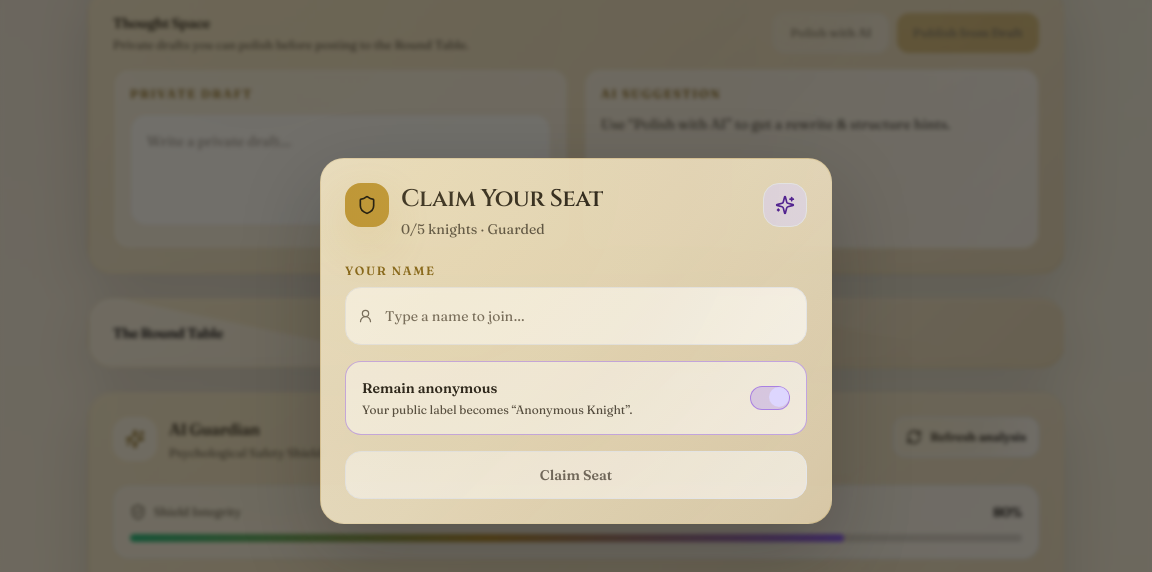
Scenario: structured room can restart and clears all discussion posts
The image size is (1152, 572).
(page scrolled)
Expected: the heading "Claim Your Seat" is shown, top-left (401, 183), bottom-right (603, 215)
Type "Alice" into the field labelled "YOUR NAME" at (590, 316), box top-left (385, 296), bottom-right (794, 336)
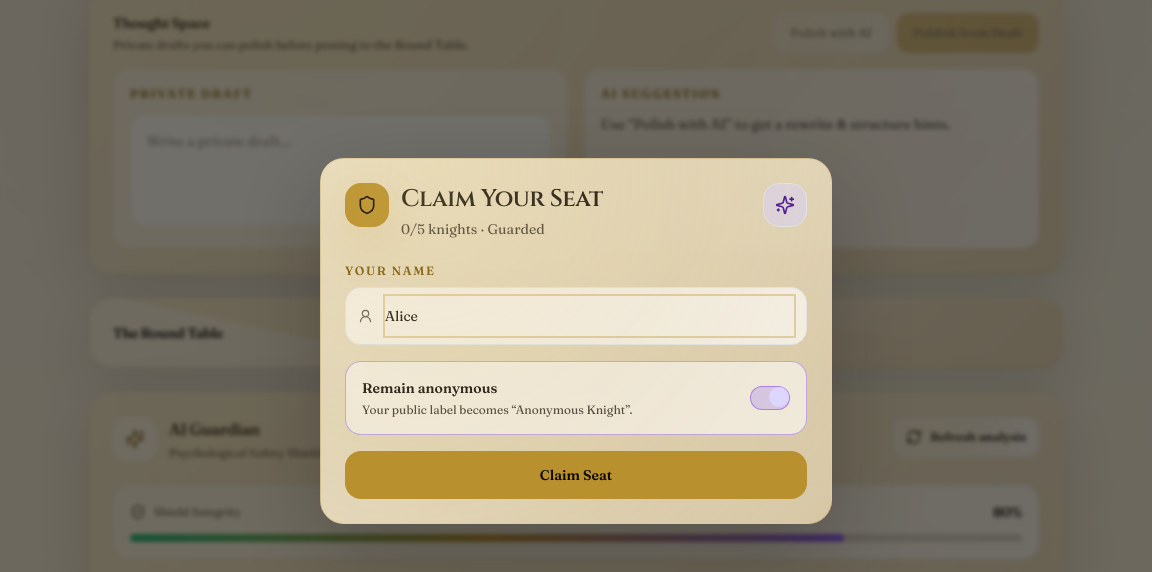
Click the button "Claim Seat" at (576, 475), box top-left (345, 451), bottom-right (807, 499)
(page scrolled)
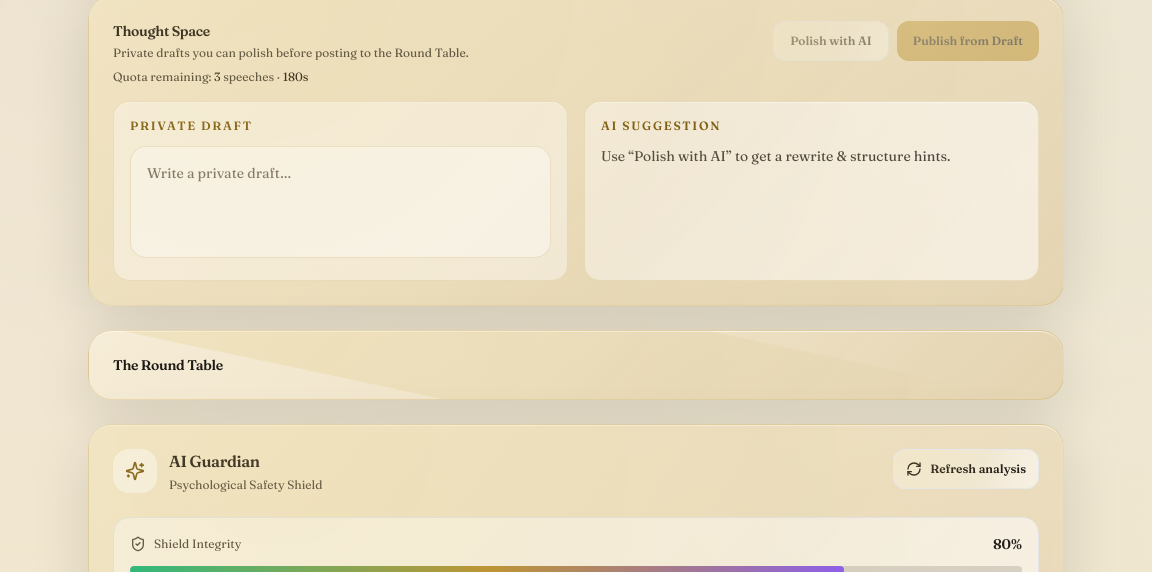
Type "hello" into the text box labelled "Write a private draft…" at (340, 202), box top-left (130, 146), bottom-right (551, 258)
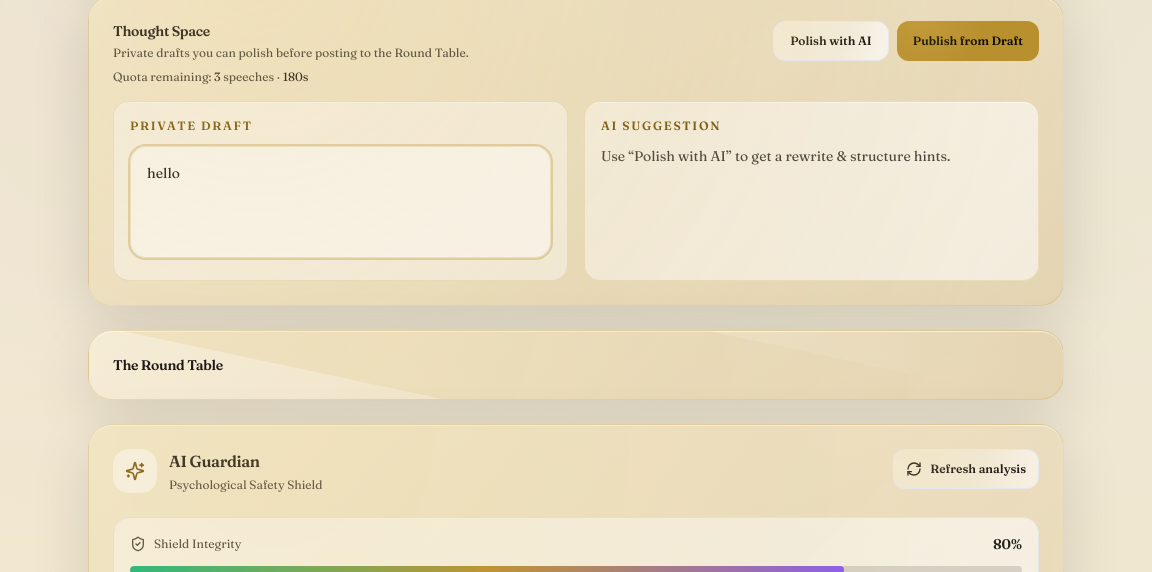
Click the button "Publish from Draft" at (968, 41), box top-left (897, 21), bottom-right (1039, 61)
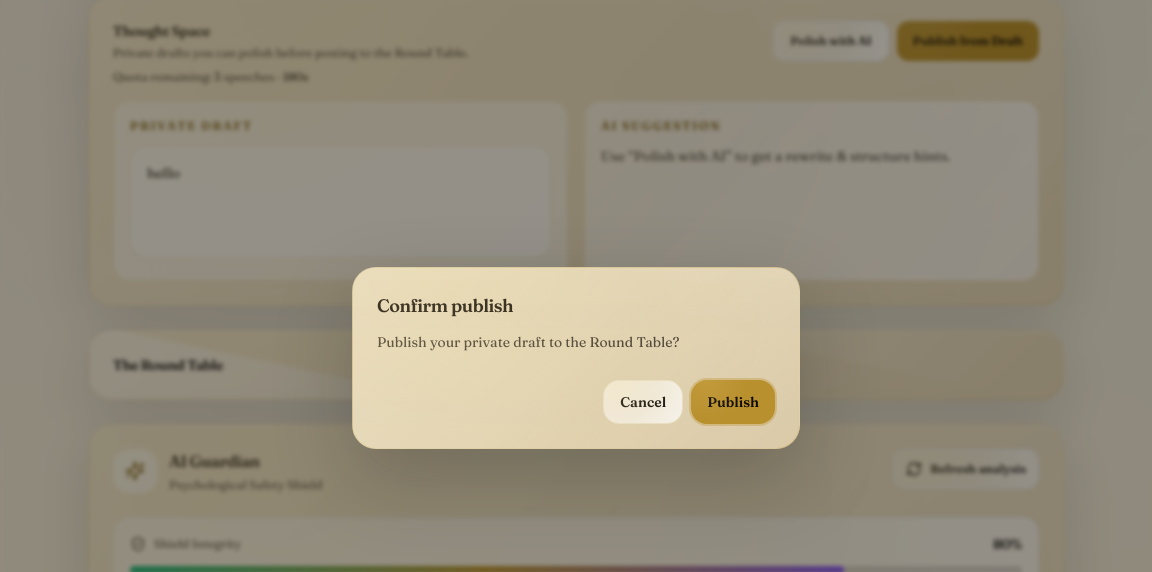
Click the button "Publish" at (733, 402), box top-left (691, 380), bottom-right (775, 424)
(page scrolled)
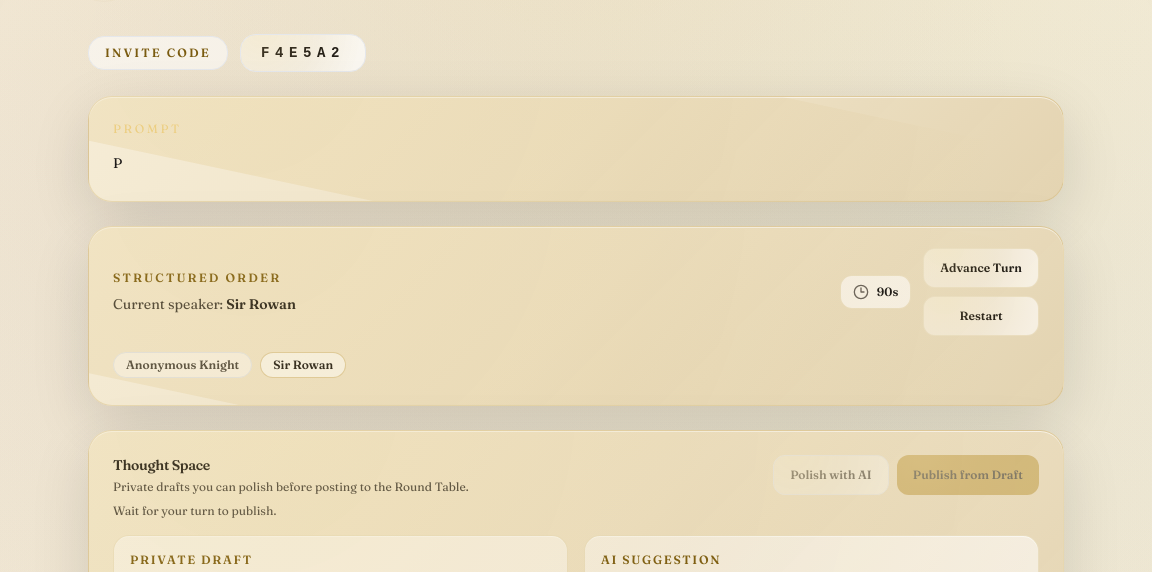
Click the button "Restart" at (981, 316), box top-left (923, 296), bottom-right (1039, 336)
(page scrolled)
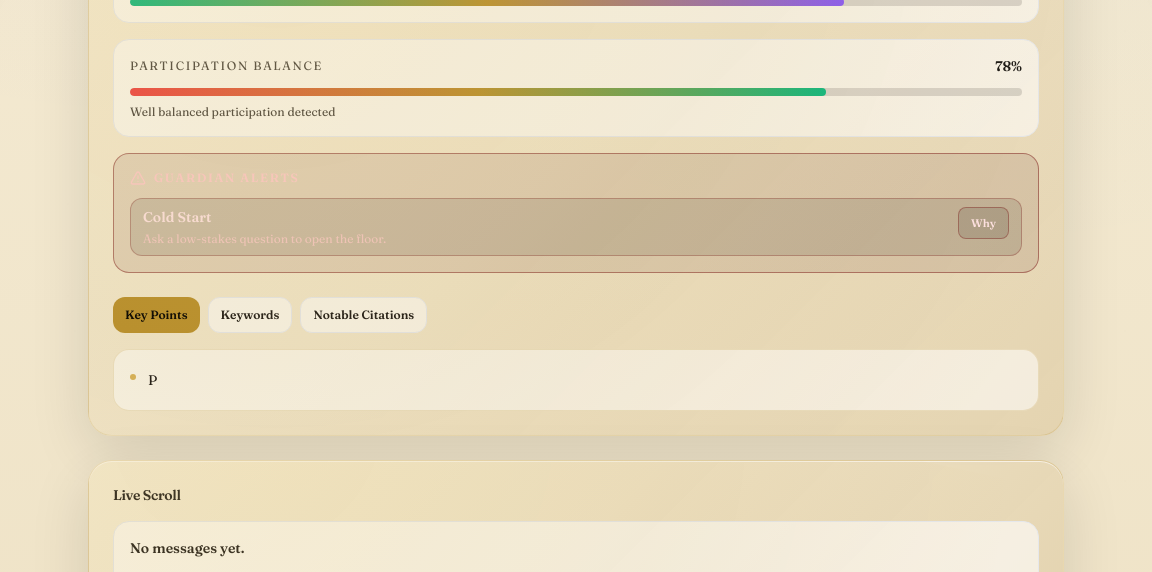
Result: the text "No messages yet." is shown at top-left (130, 539), bottom-right (245, 557)
